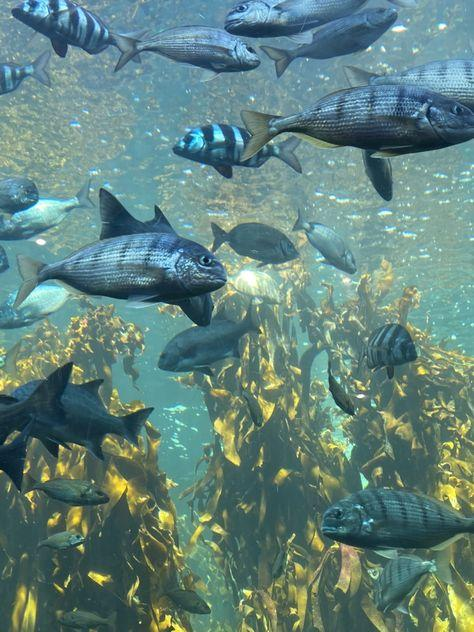fish: (240, 82, 474, 201), (19, 230, 225, 305), (7, 377, 154, 459), (264, 0, 399, 80), (321, 489, 474, 552), (13, 0, 145, 61), (157, 298, 258, 374), (174, 122, 304, 180), (108, 33, 257, 83), (345, 58, 474, 111), (0, 171, 95, 241), (0, 360, 74, 443), (375, 555, 454, 613), (293, 205, 357, 275), (210, 221, 299, 269), (0, 285, 69, 332), (24, 469, 112, 505), (0, 412, 38, 493), (365, 324, 418, 379), (0, 45, 53, 96), (157, 580, 213, 615), (227, 15, 331, 31), (0, 171, 38, 212), (327, 371, 358, 419), (58, 608, 119, 632), (238, 379, 264, 428), (39, 533, 84, 550), (0, 244, 10, 280), (116, 477, 118, 478)
